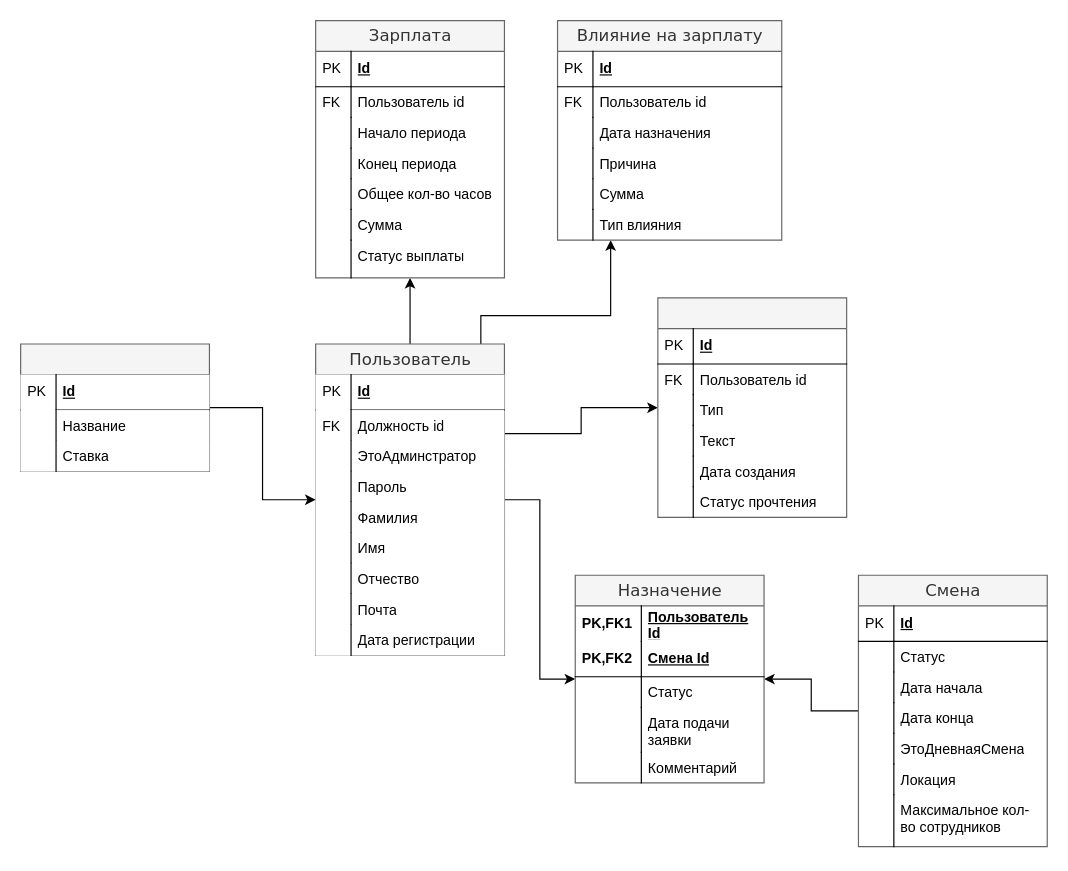
Image size: 1068x871. Some labels were removed from this diagram. The box of each missing label's shape, as (x1, y1, x2, y2) in pixels:
Должность: (19, 343, 209, 471)
Уведомление: (657, 297, 847, 517)
